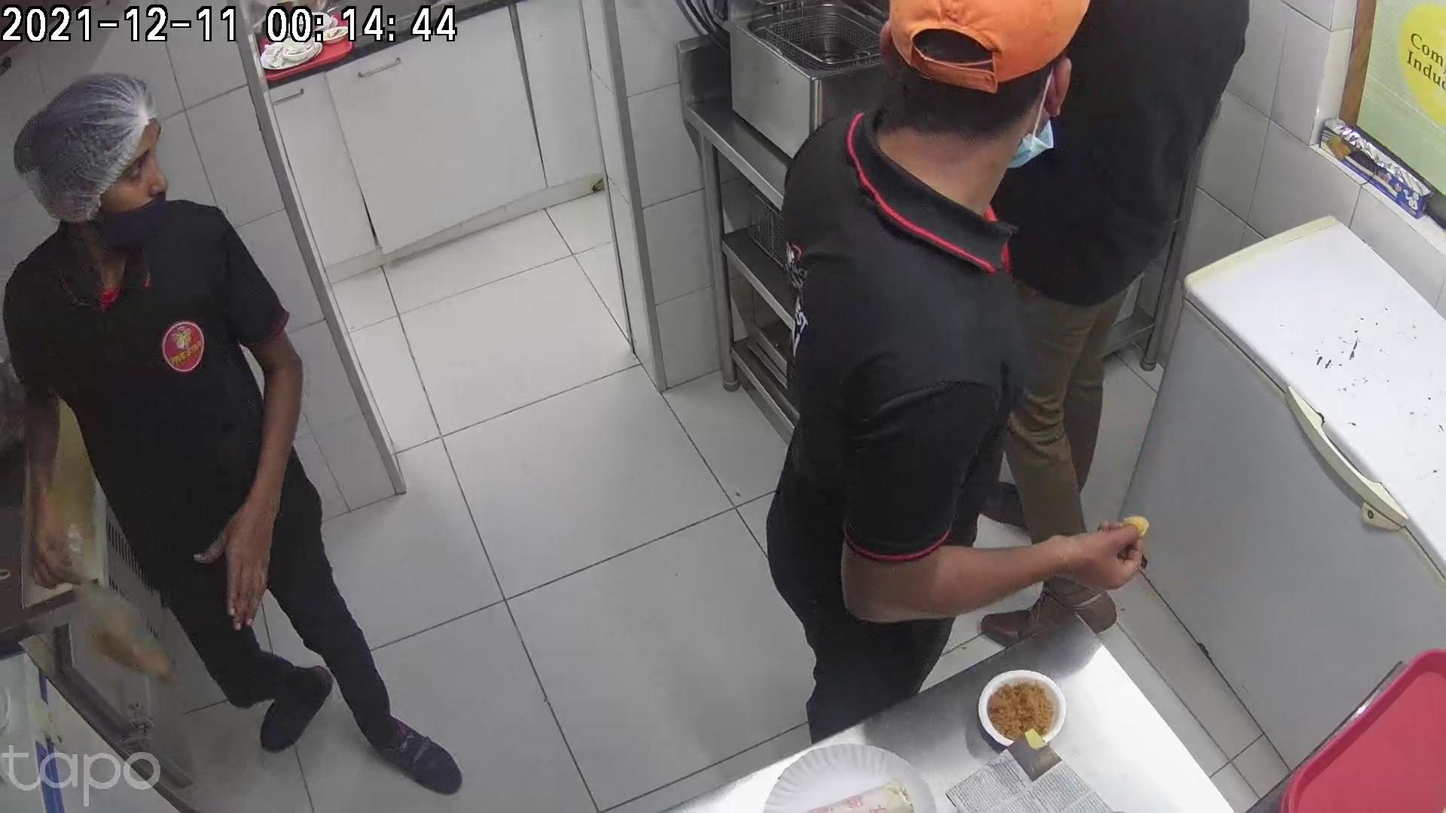gloves: (614, 548, 754, 778)
no_gloves: (378, 688, 509, 801)
